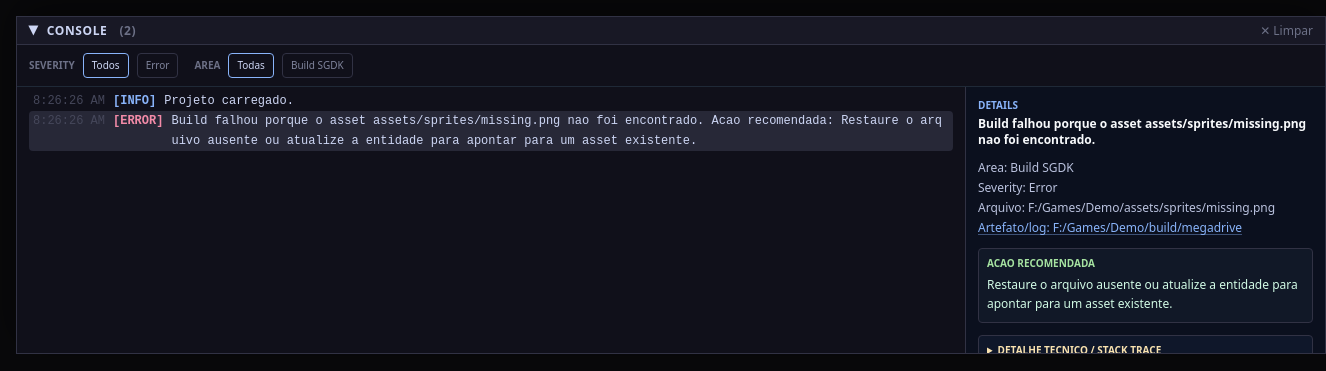
it: Console actionable diagnostics › hides non-diagnostic entries when area filter is active
What coordinates should you click on to do the following:
click the button "Build SGDK"
I would click on:
 (317, 66)
Its box is 282,53 -> 353,78.
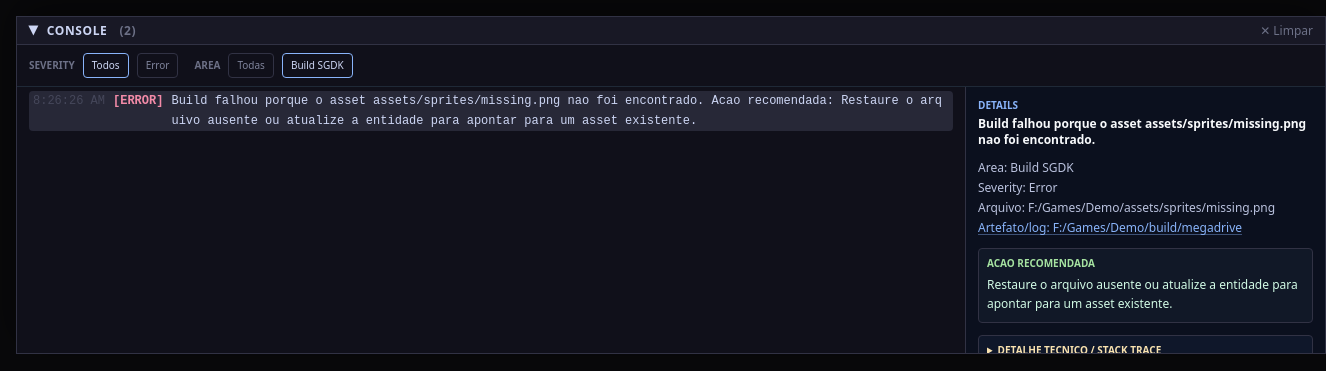
Check: the text "Build falhou porque" is shown, box 171,94 -> 942,128
Check: the text "Projeto carregado." is gone
